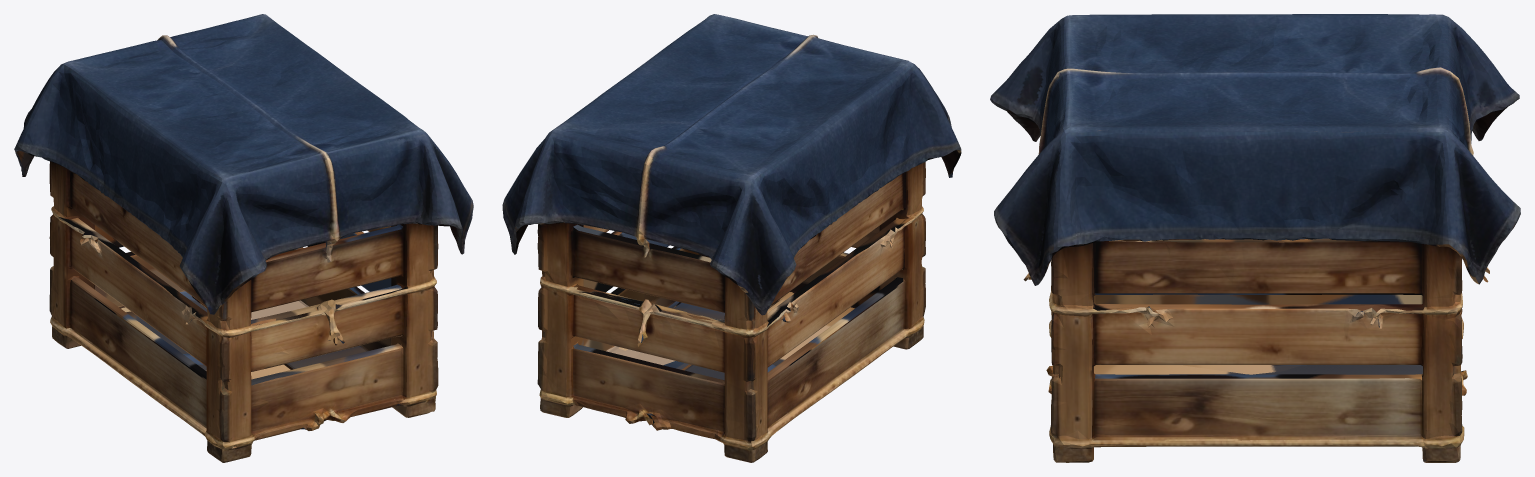
The model's file is traveler_env_coast_shinomen_covered_supplies_00001_.glb.
The picture shows the model from 3 angles, left to right: view 1: azimuth 30°, elevation 25°; view 2: azimuth 150°, elevation 25°; view 3: azimuth 270°, elevation 25°; orthographic projection. The views are drawn at different scales.
Visible parts, largest first — view 1: temp_mesh.ply; view 2: temp_mesh.ply; view 3: temp_mesh.ply.
Part boxes in pixels (bbox=[...]): temp_mesh.ply: bbox=[14, 14, 473, 462]; temp_mesh.ply: bbox=[502, 14, 961, 462]; temp_mesh.ply: bbox=[990, 14, 1520, 462].
Size of the model in its own units: 1.47 by 1.37 by 1.97.
Materials: 1 (1 with a texture image).
